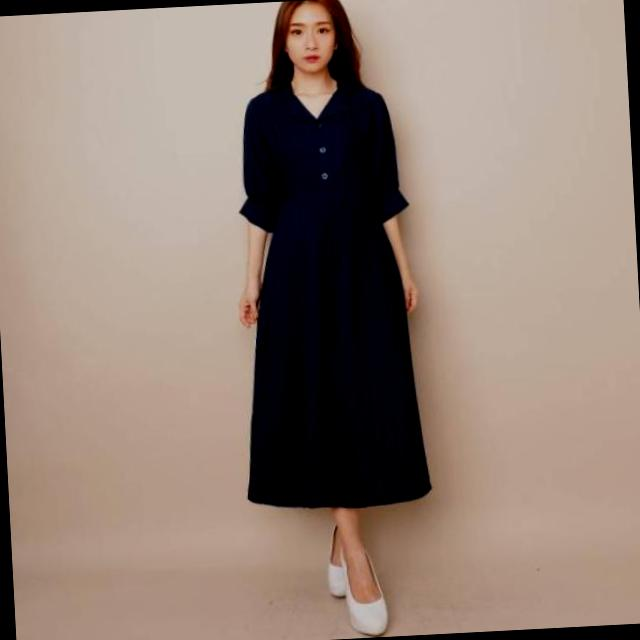dress: (218, 59, 438, 530)
